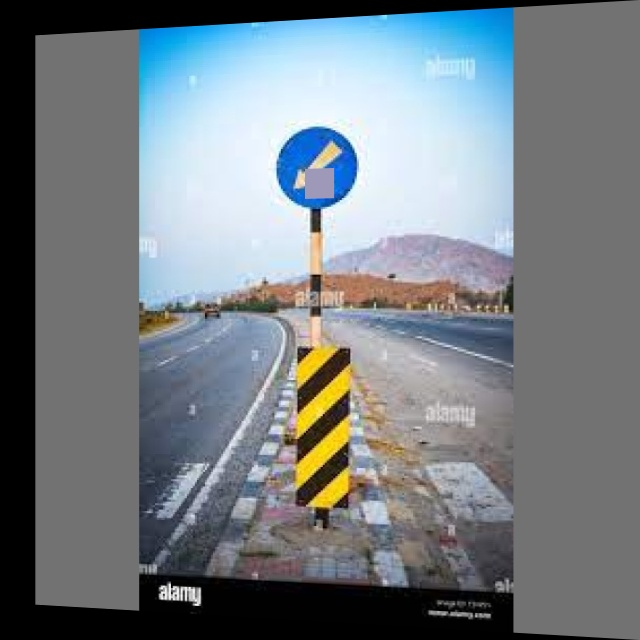Compulsory_Keep_Left: (273, 123, 369, 213)
